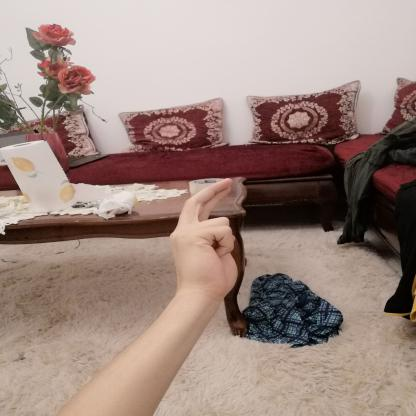ZAY: (162, 174, 249, 309)
